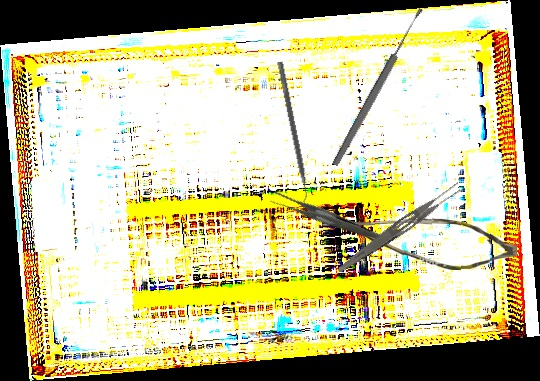Dressing Forceps: (335, 179, 465, 279), (268, 165, 386, 273)
Micro Scissor: (318, 207, 518, 275)
Spatula Surgical: (271, 61, 313, 205)
Surgical Spoon: (330, 6, 426, 168)
